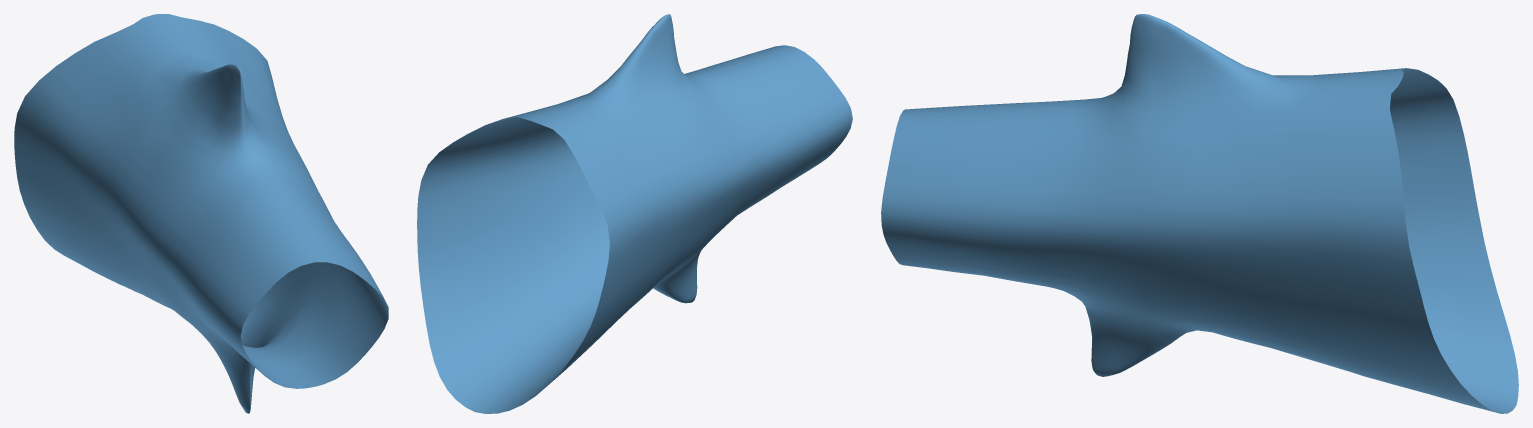
Rendered from Coleta_1.obj.
3 renders of one model, left to right at view 1: azimuth 30°, elevation 25°; view 2: azimuth 150°, elevation 25°; view 3: azimuth 270°, elevation 25°, orthographic. The views are drawn at different scales.
Parts seen in each view (by area): view 1: Coleta_1_shark.006; view 2: Coleta_1_shark.006; view 3: Coleta_1_shark.006.
Part boxes in pixels (left/top/right/bottom): Coleta_1_shark.006: left=14, top=14, right=388, bottom=413; Coleta_1_shark.006: left=417, top=14, right=852, bottom=413; Coleta_1_shark.006: left=881, top=14, right=1518, bottom=413.
Size of the model in its own units: 12.21 by 15.03 by 23.6.
